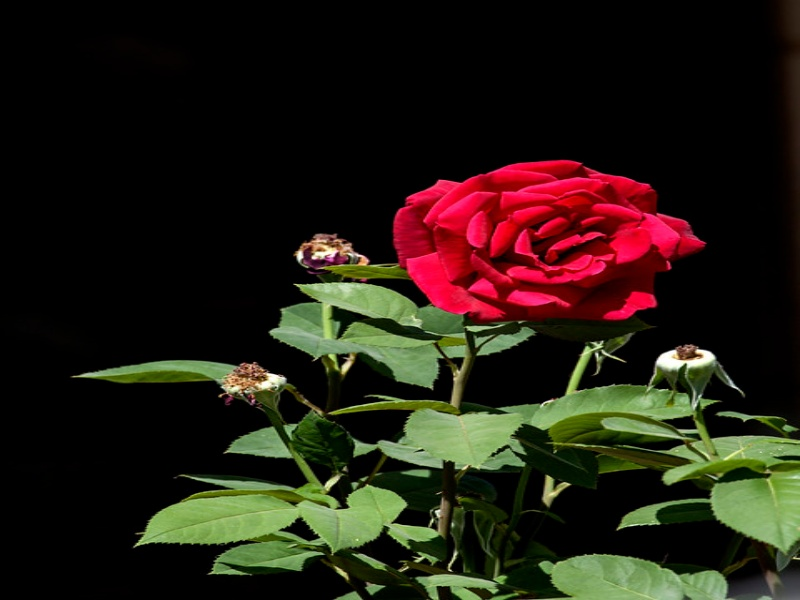rose: (373, 140, 718, 344)
